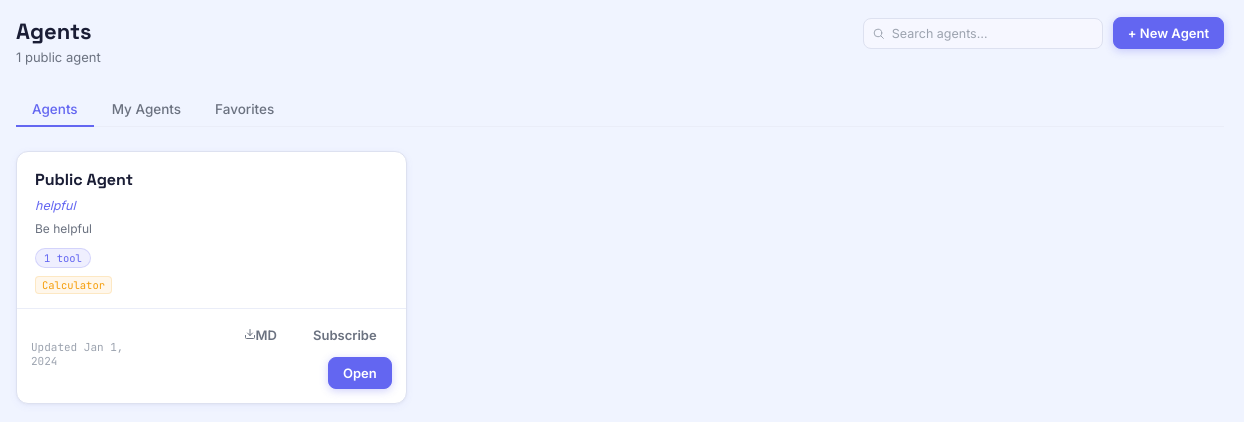
Test: AgentsPage › Search / filter › shows filter-empty message when no match
Type "zzznomatch" into the field with placeholder "Search agents…" at (983, 33), box x1=863 y1=18 x2=1103 y2=48
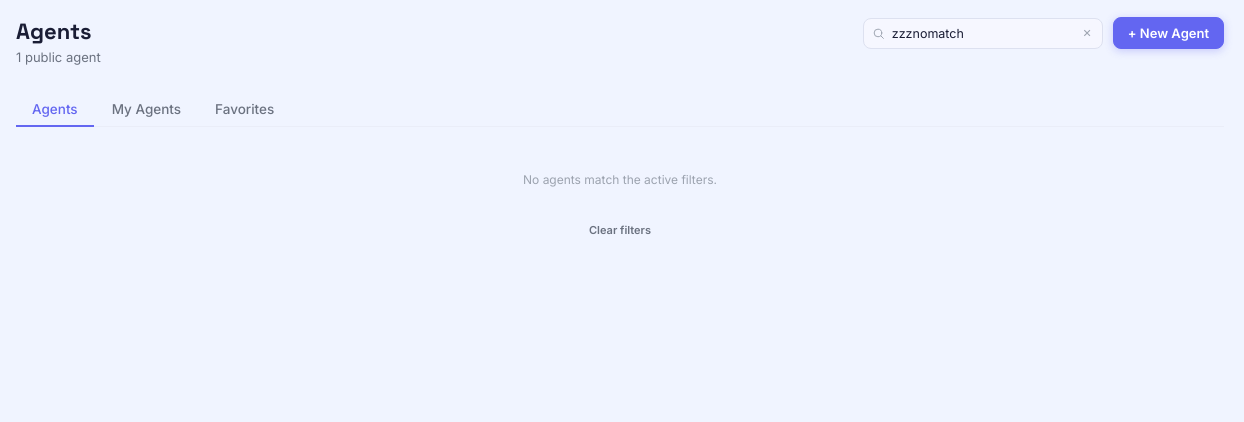
Now the text "No agents match the active filters." is shown, box x1=523 y1=172 x2=717 y2=187
